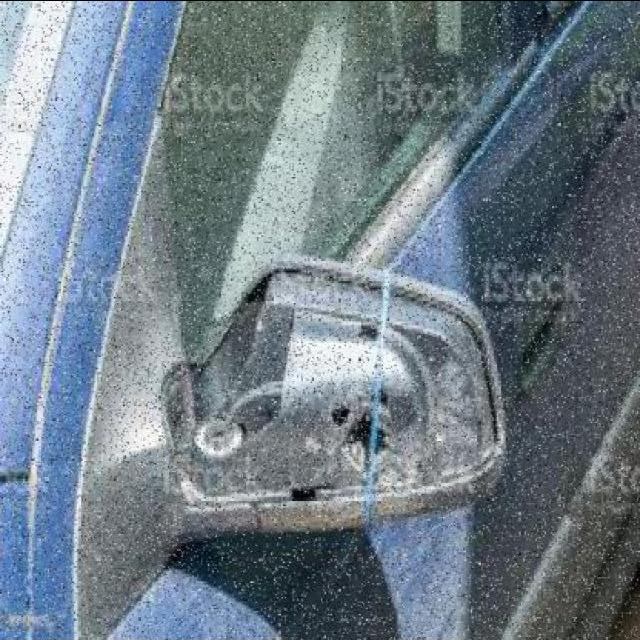Sidemirror-Damage: (140, 241, 523, 570)
